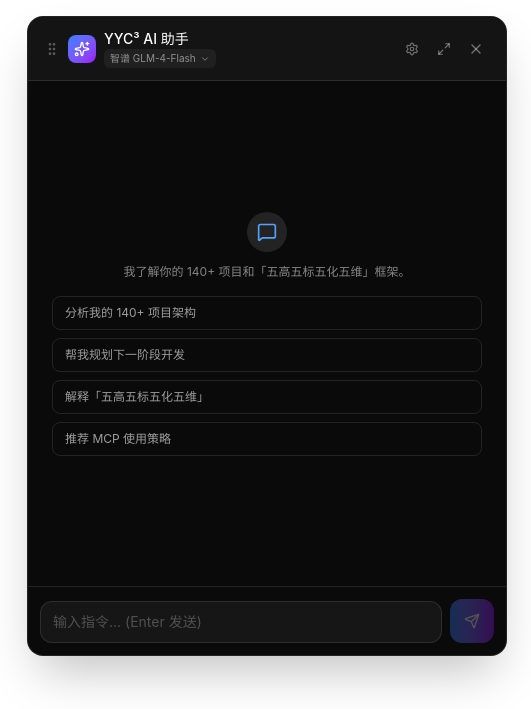
Scenario: AiAssistant › shows loading state during API call
Type "测试" into the text box with placeholder "输入指令... (Enter 发送)" at [241, 622], box [40,601,442,643]
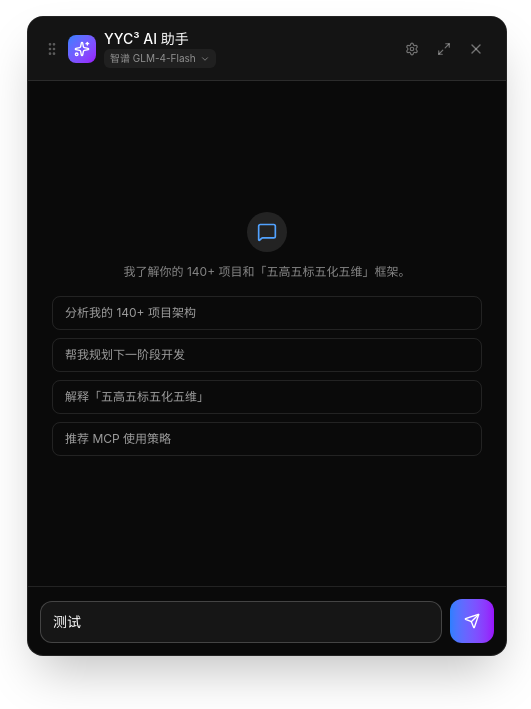
Press Enter
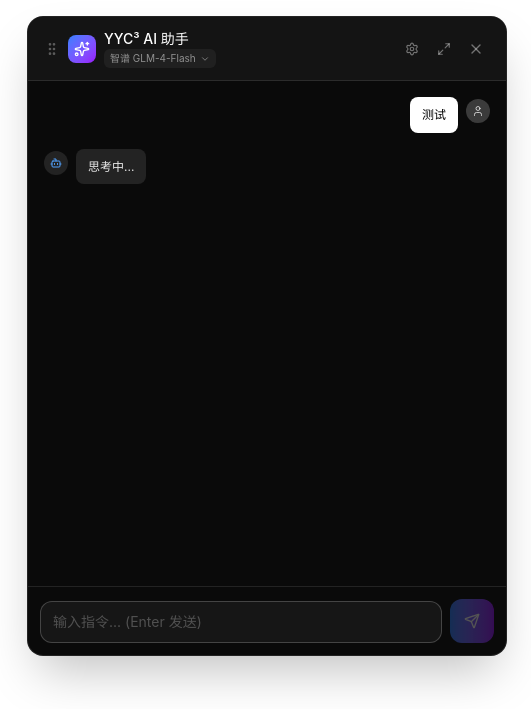
Expected: the 5th button is disabled, [450,599,494,643]
